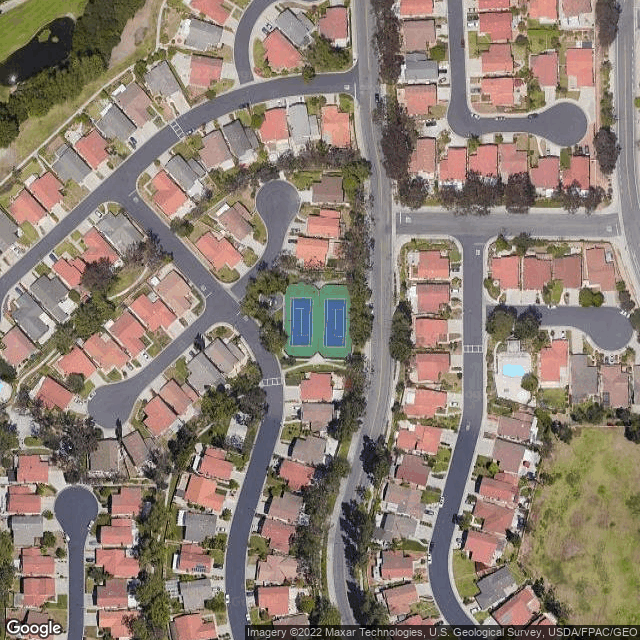Court: (324, 297, 348, 348), (289, 296, 312, 347)
